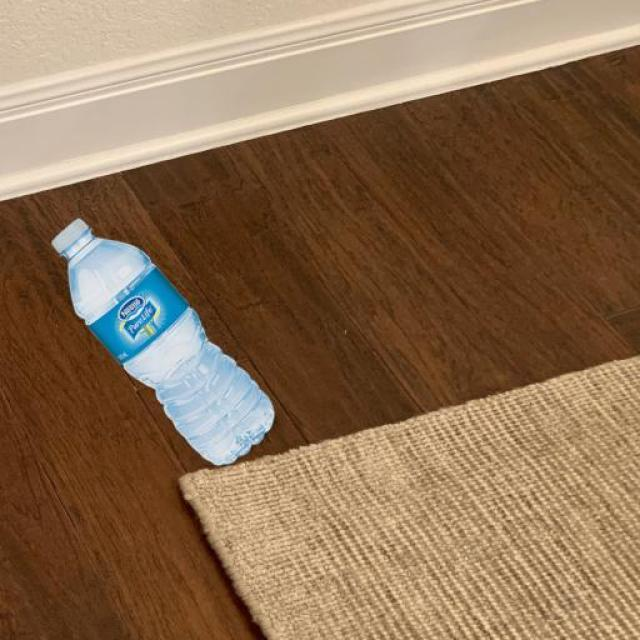bottle: (49, 216, 275, 466)
